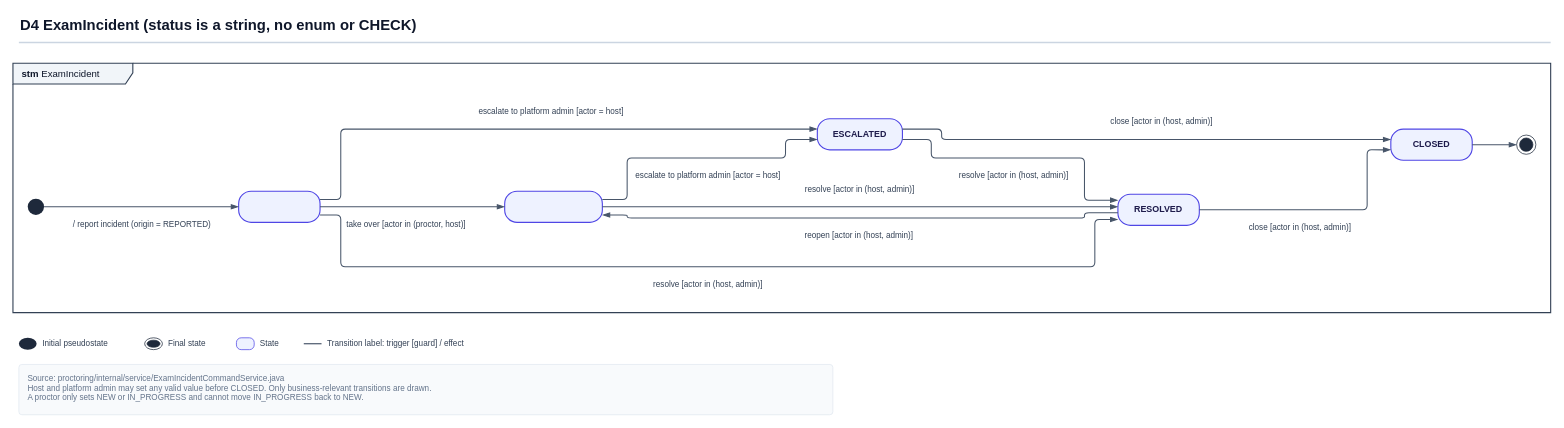
Some shapes in this 1564 by 428 pixel diagram are drawn without their labels. Each missing label, with the centre of its shape:
"IN_PROGRESS" goes at point 553,206.
"NEW" goes at point 279,206.
